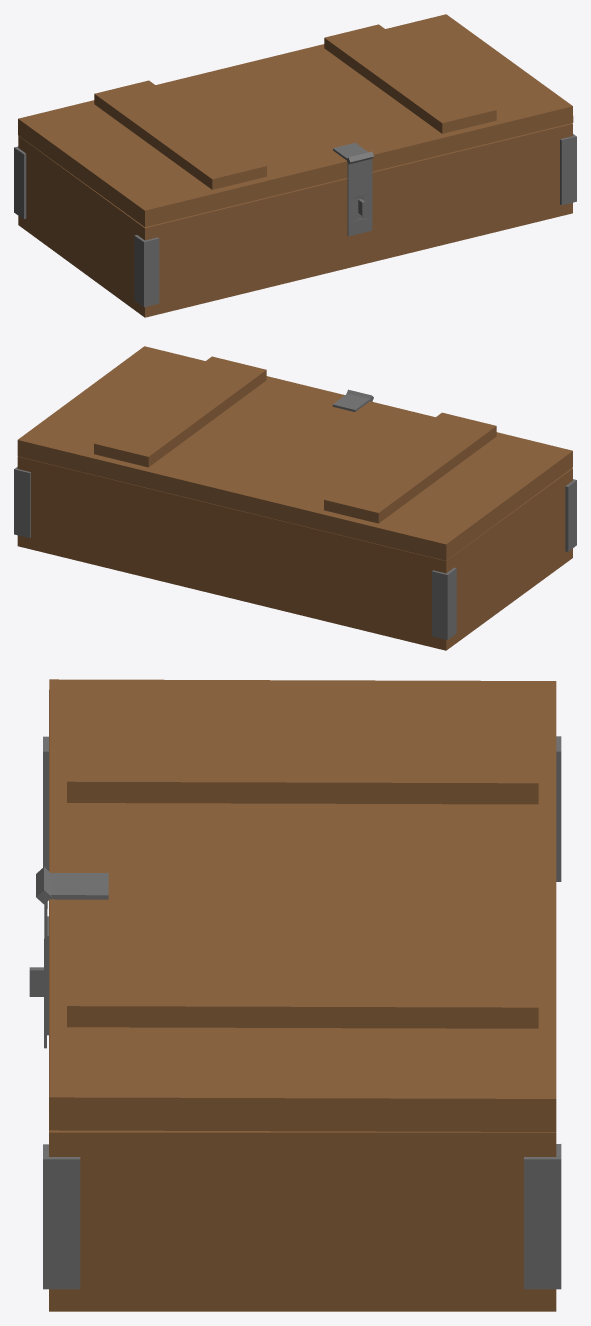
Rendered from WeaponChest.fbx.
The picture shows the model from 3 angles, top to bottom: view 1: azimuth 30°, elevation 25°; view 2: azimuth 150°, elevation 25°; view 3: azimuth 270°, elevation 25°; orthographic projection. The views are drawn at different scales.
Visible parts, largest first — view 1: Cube.001, Cube; view 2: Cube.001, Cube; view 3: Cube.001, Cube.
Boxes of the visible parts, x1=… form: Cube.001: x1=18, y1=14, x2=573, y2=236; Cube: x1=14, y1=123, x2=576, y2=317; Cube.001: x1=17, y1=346, x2=572, y2=560; Cube: x1=14, y1=456, x2=576, y2=650; Cube.001: x1=36, y1=679, x2=556, y2=1131; Cube: x1=29, y1=736, x2=561, y2=1311.
Size of the model in its own units: 328 by 85.09 by 174.
